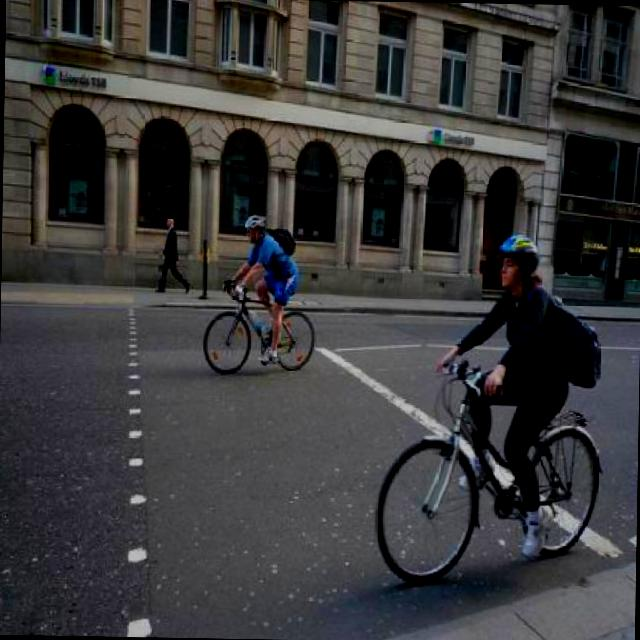Person: (424, 233, 573, 558), (232, 213, 300, 365), (152, 215, 190, 291)
